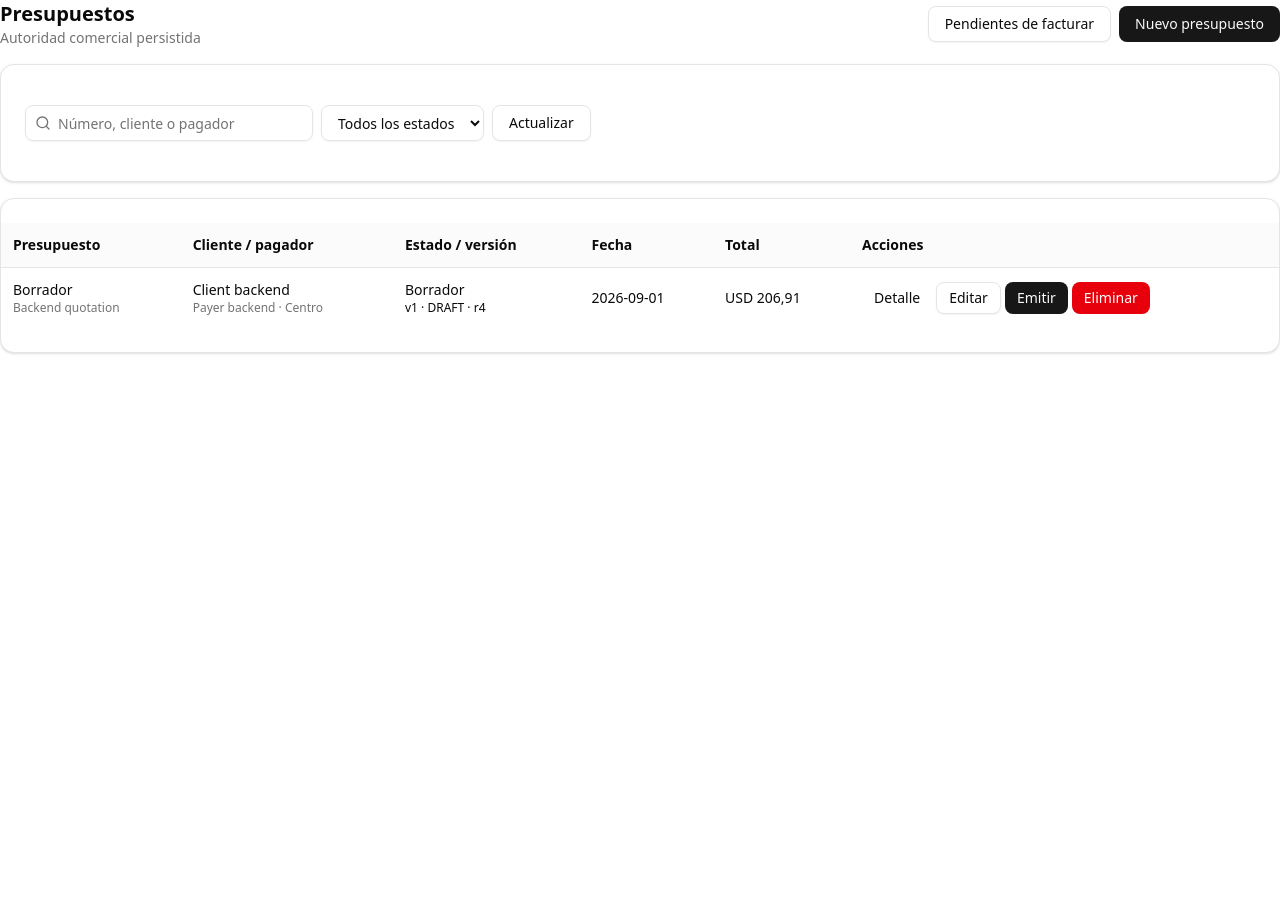
Sales actual rendered page and isolated form › preserves FIRM, currency, exact dates, legend, units and nested metadata on edit failure and explicit retry
The width and height of the screenshot is (1280, 900).
Click the button "Editar".
click(969, 298)  # box x1=936 y1=282 x2=1001 y2=314
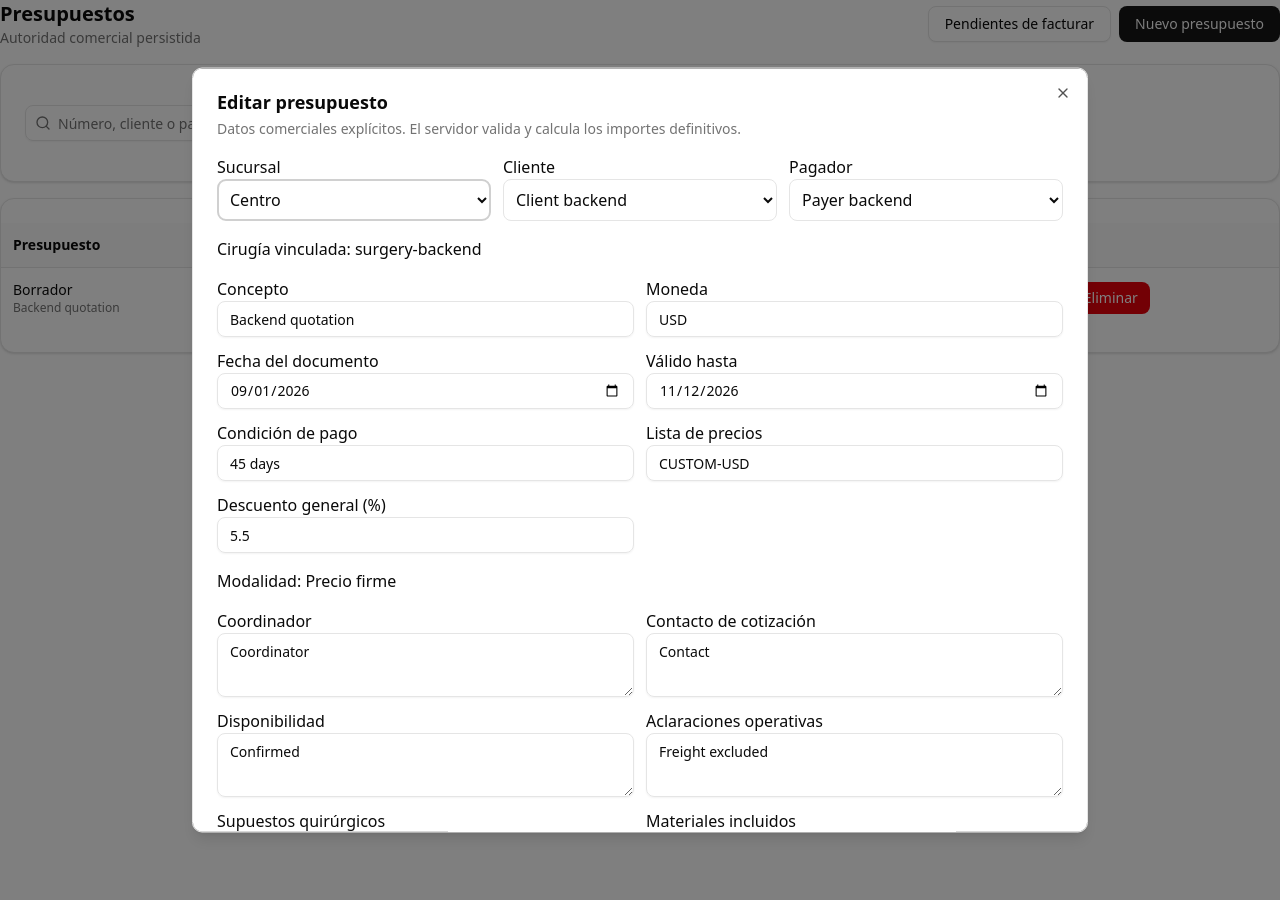
Check: the text box labelled "Coordinador" is shown, box x1=217 y1=632 x2=634 y2=696
Replace the text in the field labelled "Concepto" with "Edited title" at (426, 318), box x1=217 y1=300 x2=634 y2=336
(page scrolled)
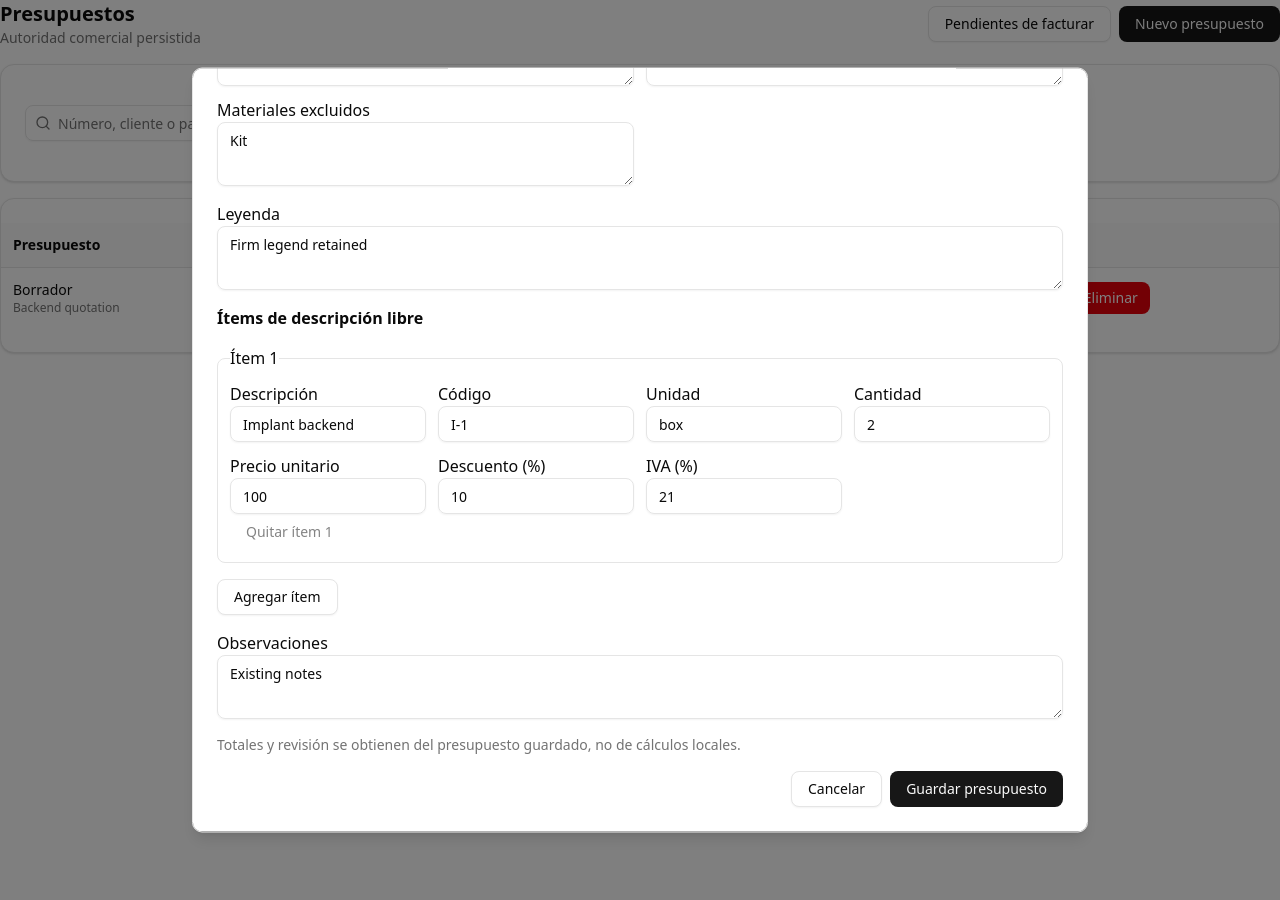
Click the button "Guardar presupuesto".
click(977, 790)  # box x1=890 y1=772 x2=1063 y2=808
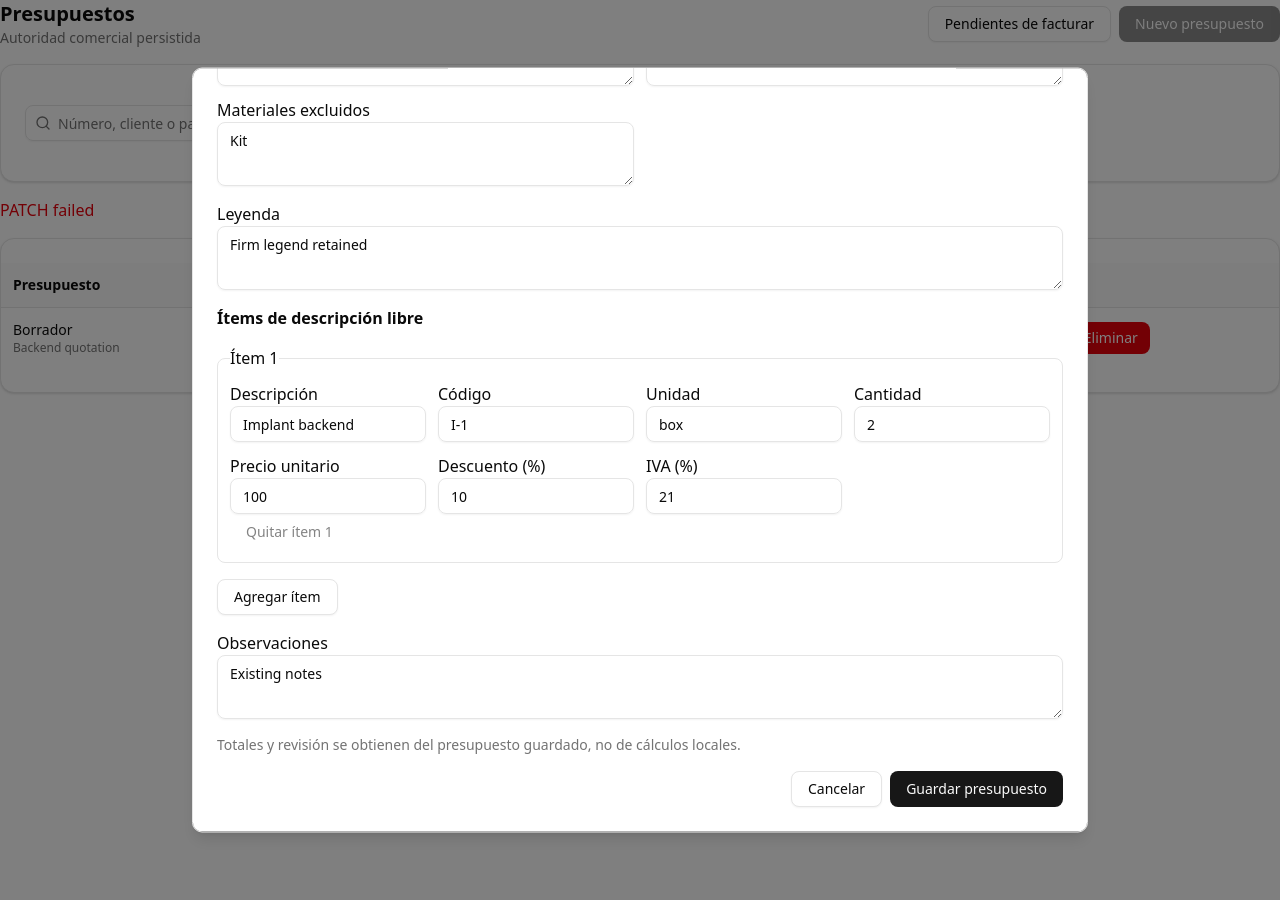
Click the button "Guardar presupuesto".
click(977, 790)  # box x1=890 y1=772 x2=1063 y2=808
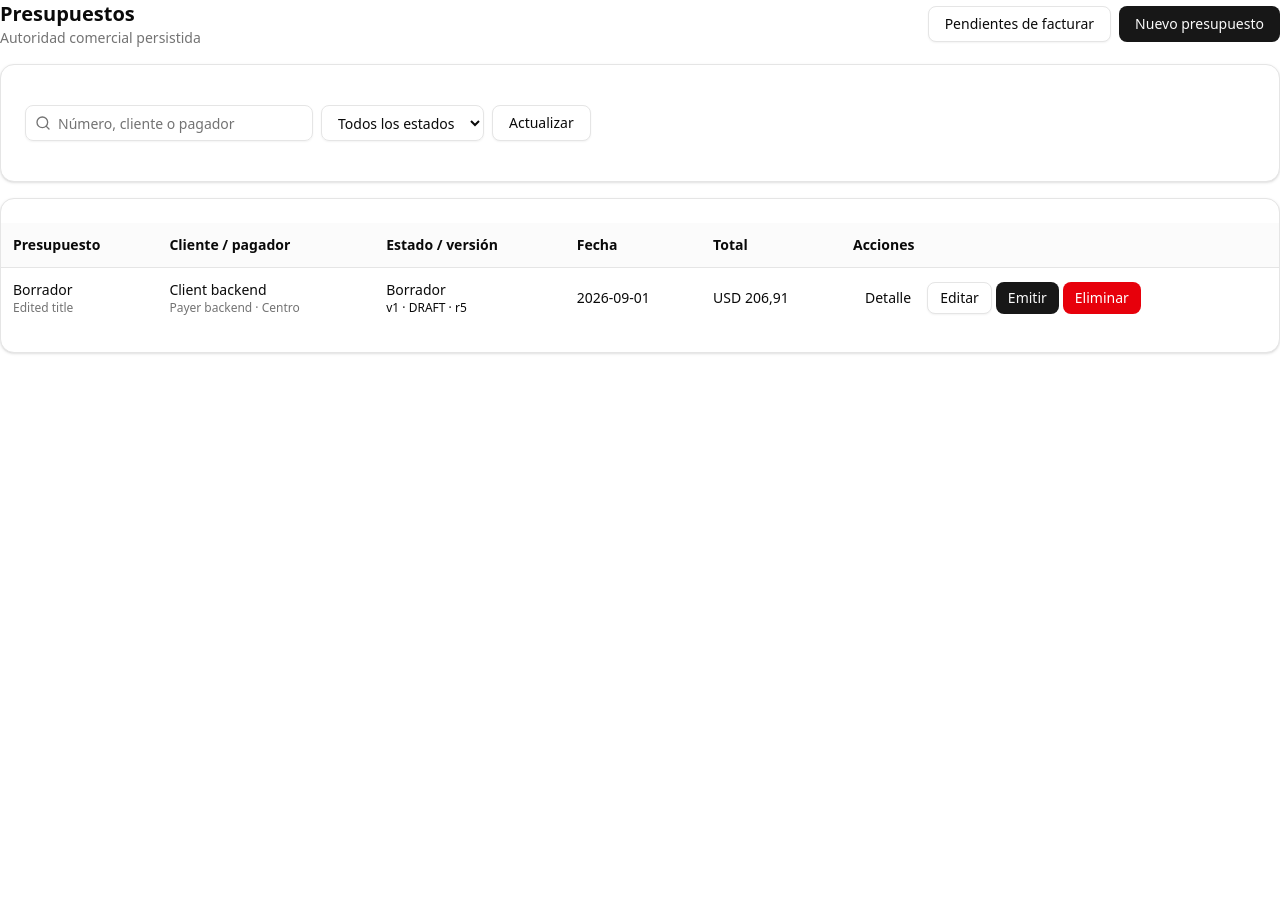
Check: the dialog is gone
Check: the text "Edited title" is shown, box x1=13 y1=299 x2=73 y2=316
